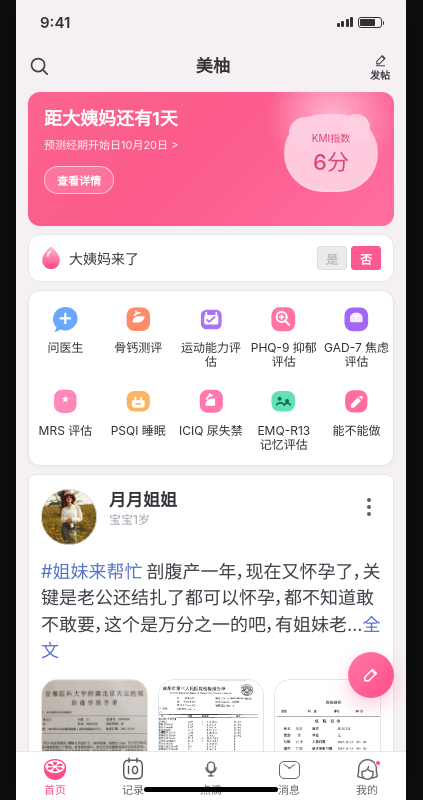
Scenario: scene1 message page › routes the 消息 tab to /scene1-message
Click the button "消息" at (289, 776), box left=250, top=752, right=328, bottom=799
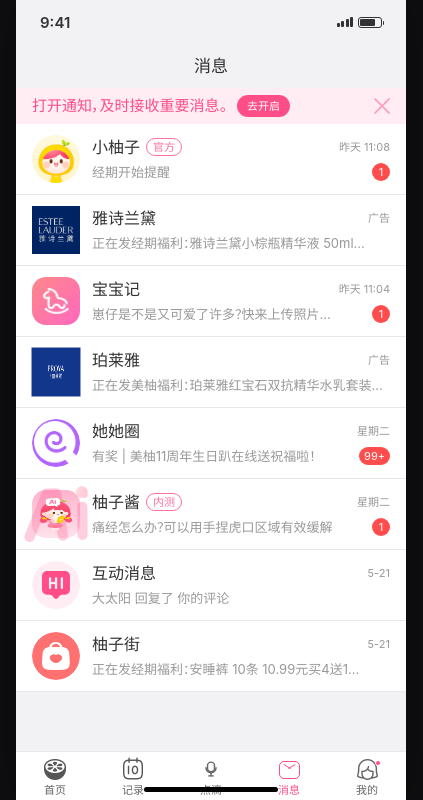
Check: the element with test id "scene1-message-shell" is shown
